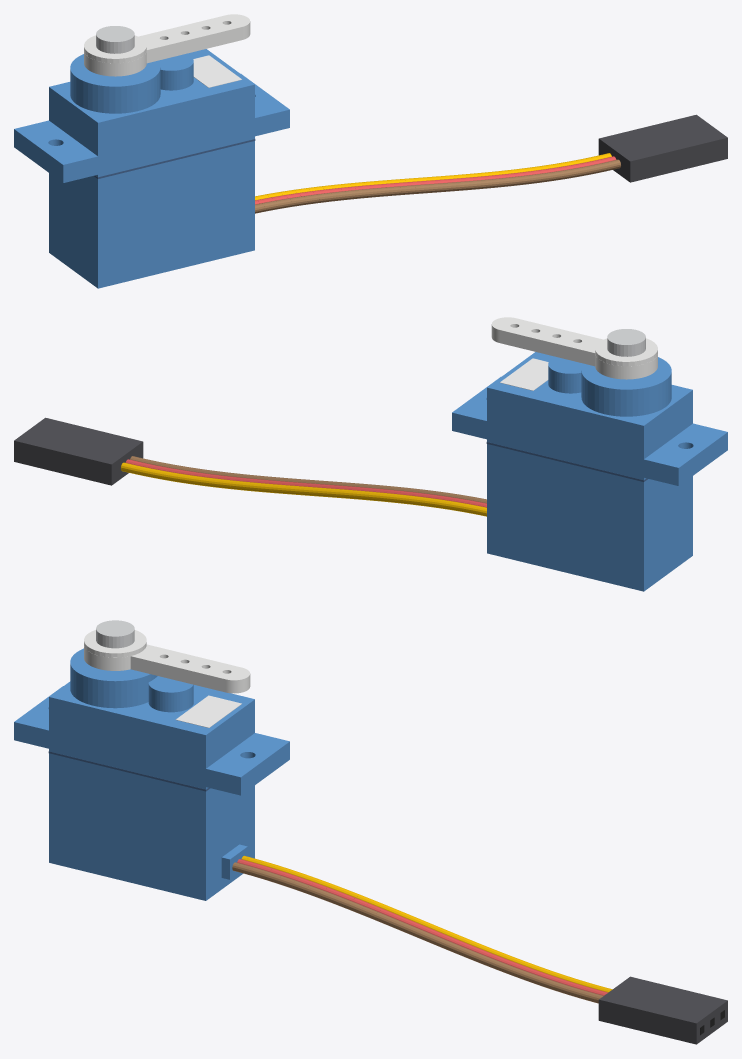
The model's file is servo.glb.
3 views of the same model, one above another, from view 1: azimuth 30°, elevation 25°; view 2: azimuth 150°, elevation 25°; view 3: azimuth 330°, elevation 25° (orthographic).
Visible parts, largest first — view 1: Body_Blue, Connector_Black, Horn_White, Wire_Brown, Wire_Red, Wire_Orange, Label_White, Shaft_Metal; view 2: Body_Blue, Connector_Black, Horn_White, Wire_Orange, Wire_Red, Wire_Brown, Label_White, Shaft_Metal; view 3: Body_Blue, Connector_Black, Horn_White, Wire_Brown, Wire_Red, Wire_Orange, Label_White, Shaft_Metal.
Boxes of the visible parts, box(x1,y1,x2,y2) form: Body_Blue: box(14, 49, 289, 288); Connector_Black: box(598, 114, 727, 182); Horn_White: box(84, 14, 250, 76); Wire_Brown: box(255, 159, 620, 213); Wire_Red: box(255, 156, 616, 204); Wire_Orange: box(255, 153, 611, 200); Label_White: box(193, 55, 241, 87); Shaft_Metal: box(96, 26, 134, 53); Body_Blue: box(452, 352, 727, 591); Connector_Black: box(14, 417, 143, 485); Horn_White: box(491, 317, 657, 379); Wire_Orange: box(121, 462, 486, 516); Wire_Red: box(125, 459, 486, 507); Wire_Brown: box(130, 456, 486, 503); Label_White: box(500, 358, 548, 390); Shaft_Metal: box(607, 329, 645, 356); Body_Blue: box(14, 648, 289, 900); Connector_Black: box(598, 976, 727, 1044); Horn_White: box(84, 630, 250, 693); Wire_Brown: box(232, 862, 603, 1003); Wire_Red: box(237, 859, 607, 995); Wire_Orange: box(241, 855, 612, 992); Label_White: box(175, 695, 241, 727); Shaft_Metal: box(96, 620, 134, 648).
Size of the model in its own units: 0.0966 by 0.0354 by 0.0122.
